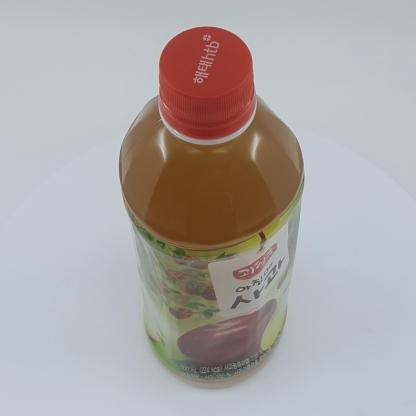--------500ML: (119, 26, 304, 388)
